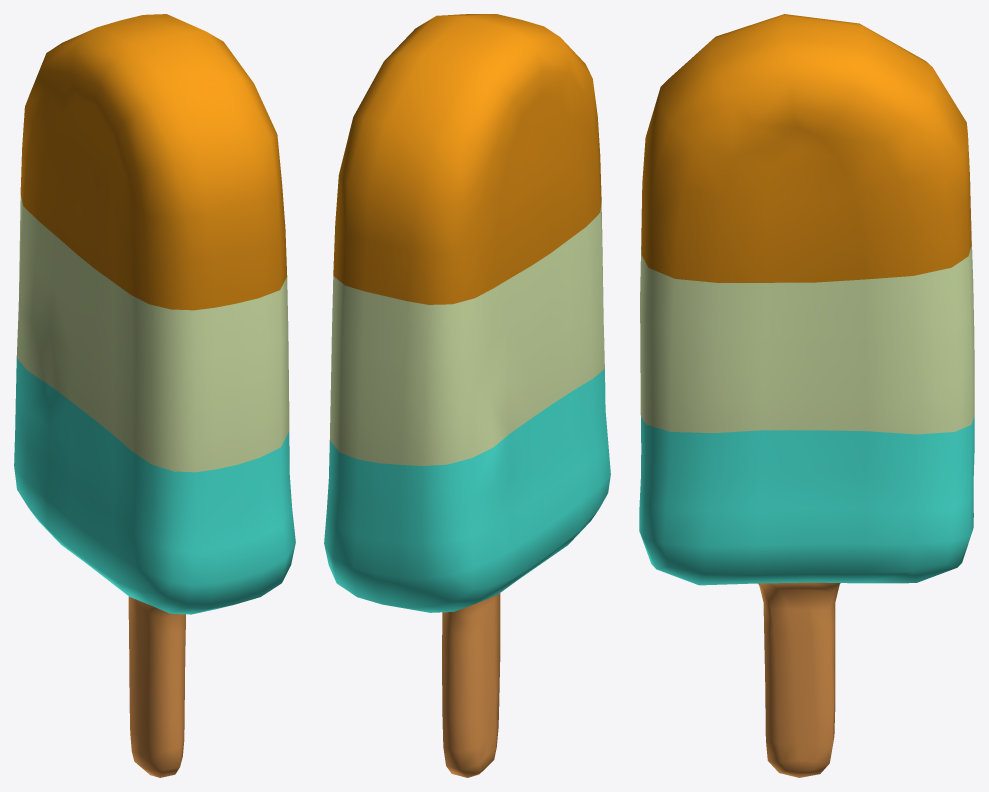
Rendered from IceCream_0001_0027.fbx.
The picture shows the model from 3 angles, left to right: view 1: azimuth 30°, elevation 25°; view 2: azimuth 150°, elevation 25°; view 3: azimuth 270°, elevation 25°; orthographic projection.
Parts seen in each view (by area): view 1: Ice_0001_0027; view 2: Ice_0001_0027; view 3: Ice_0001_0027.
Part boxes in pixels (left/top/right/bottom): Ice_0001_0027: left=14, top=14, right=295, bottom=777; Ice_0001_0027: left=324, top=14, right=610, bottom=777; Ice_0001_0027: left=639, top=14, right=974, bottom=777.
Size of the model in its own units: 0.0263 by 0.121 by 0.0494.
Materials: 1 (1 with a texture image).
